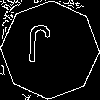J: (25, 25, 52, 72)
